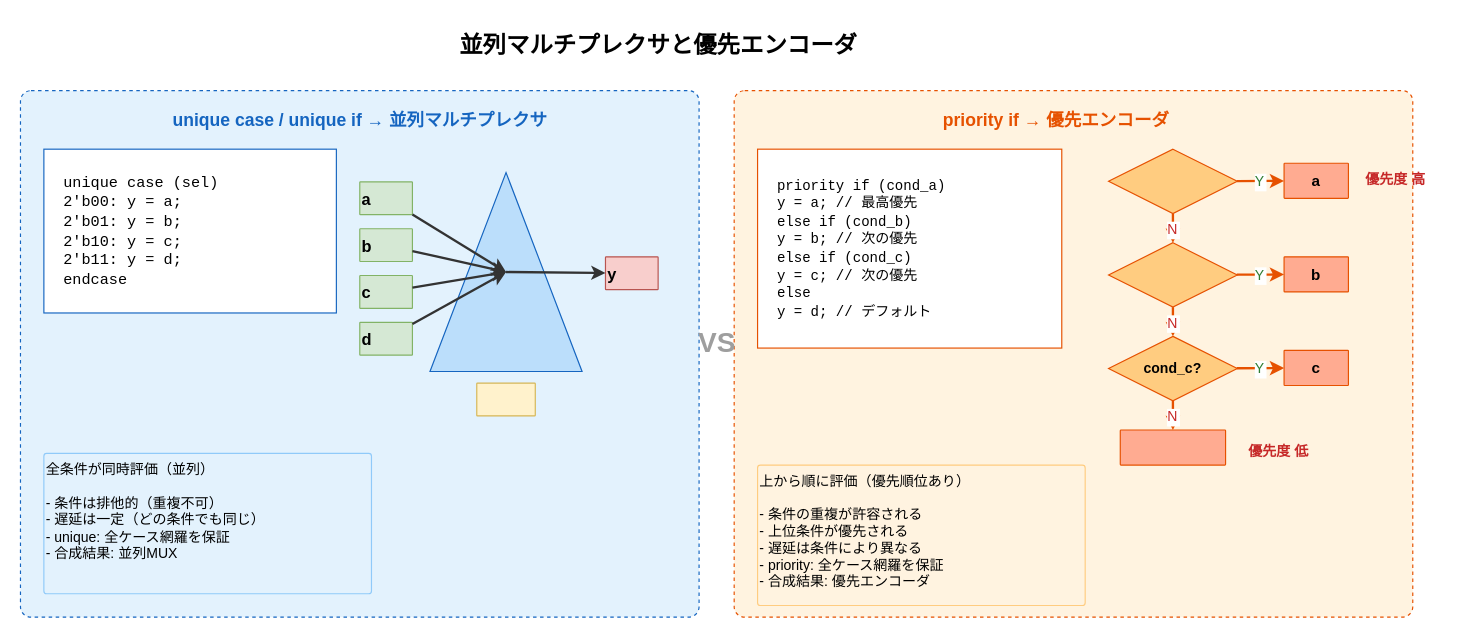
The diagram is 1457 pixels wide and 638 high, and some of its shapes have lost their labels. Each missing label, with the centre of its shape:
cond_a?: (1172,181)
cond_b?: (1172,274)
d (default): (1172,447)
MUX: (505,271)
sel: (505,399)
